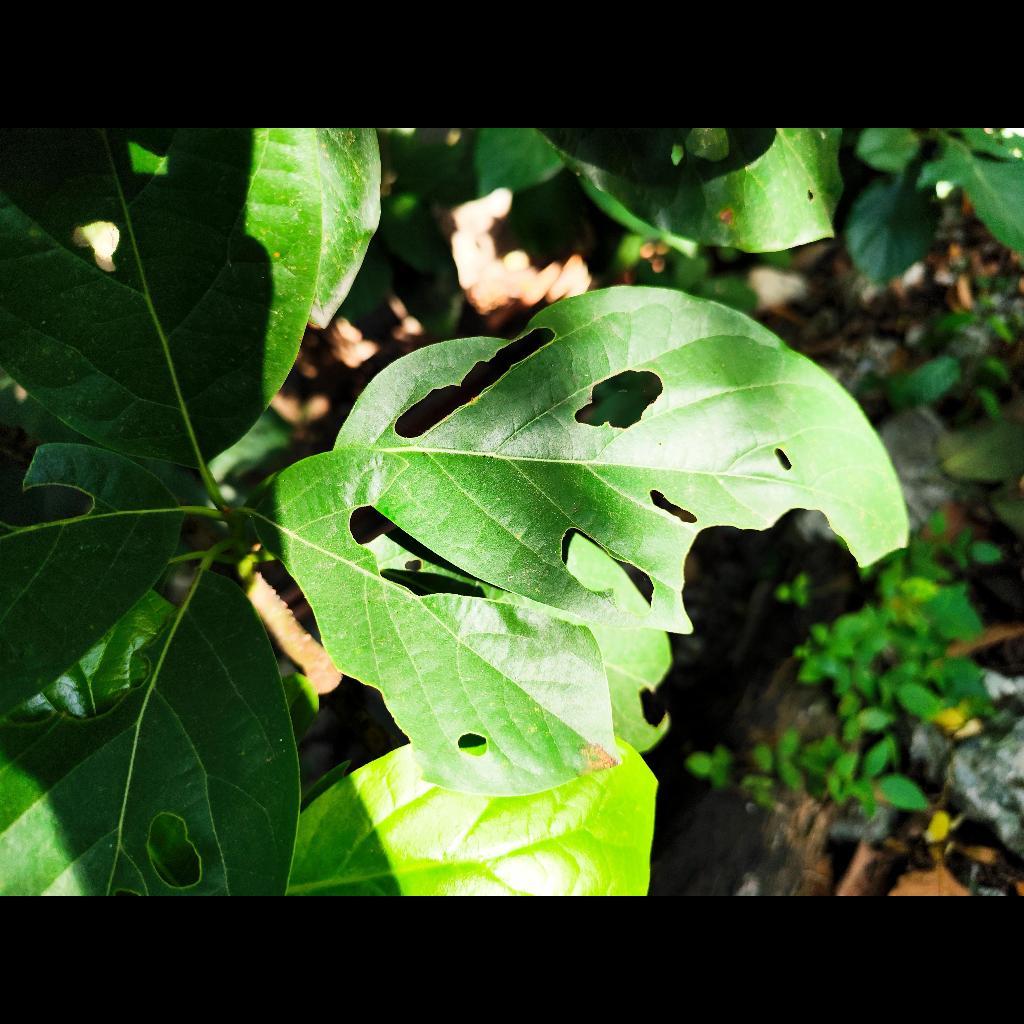Pest Infested: (254, 287, 908, 698)
